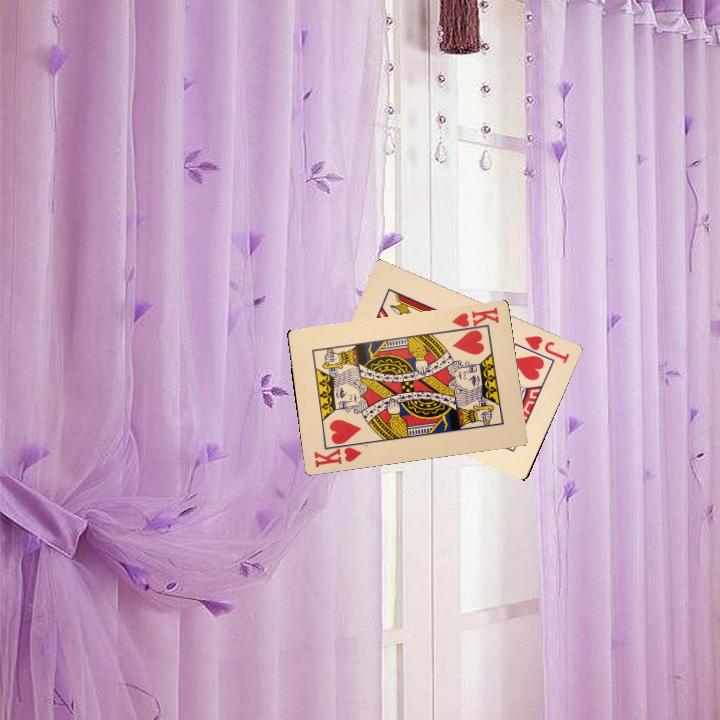Jh: (516, 331, 572, 366)
Kh: (448, 303, 502, 335), (310, 439, 364, 470)
